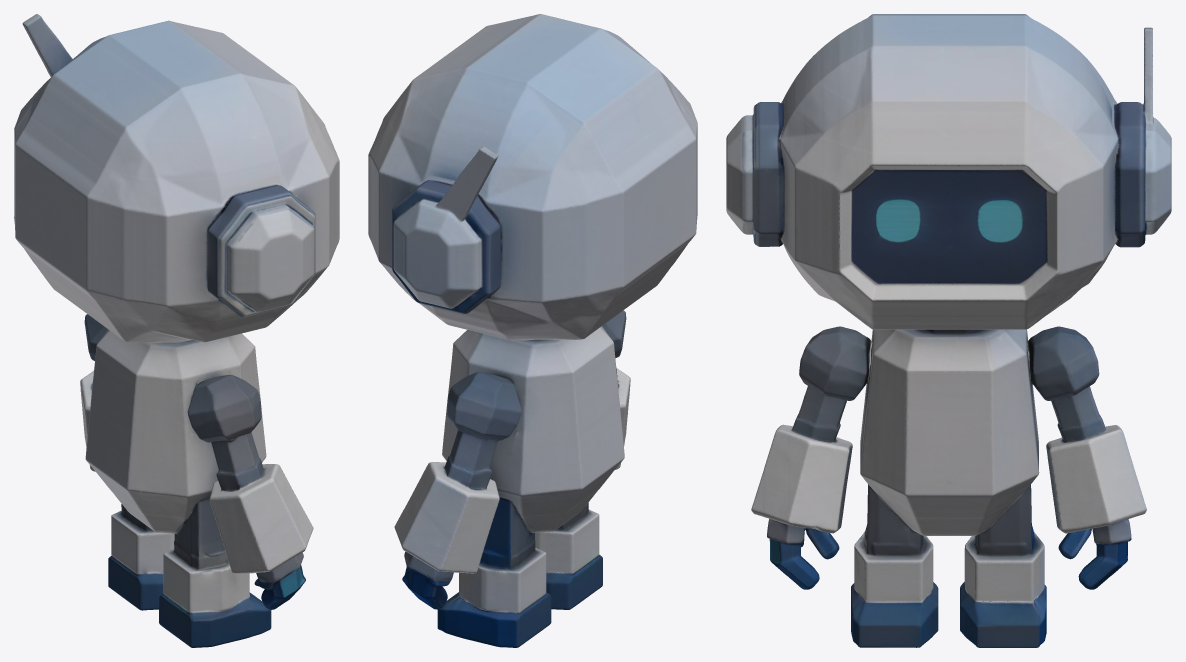
Rendered from robot.glb.
3 views of the same model, side by side, from view 1: azimuth 30°, elevation 25°; view 2: azimuth 150°, elevation 25°; view 3: azimuth 270°, elevation 25° (orthographic). The views are drawn at different scales.
Visible parts, largest first — view 1: tripo_node_dece1853-33a3-4bb3-b98b-90deb5d82cdd; view 2: tripo_node_dece1853-33a3-4bb3-b98b-90deb5d82cdd; view 3: tripo_node_dece1853-33a3-4bb3-b98b-90deb5d82cdd.
Part boxes in pixels (left/top/right/bottom): tripo_node_dece1853-33a3-4bb3-b98b-90deb5d82cdd: left=14, top=14, right=339, bottom=647; tripo_node_dece1853-33a3-4bb3-b98b-90deb5d82cdd: left=368, top=14, right=697, bottom=647; tripo_node_dece1853-33a3-4bb3-b98b-90deb5d82cdd: left=726, top=14, right=1171, bottom=647.
Bounding box in the file's own units: 0.4465 × 1 × 0.6839.
1 material, 1 textured.
